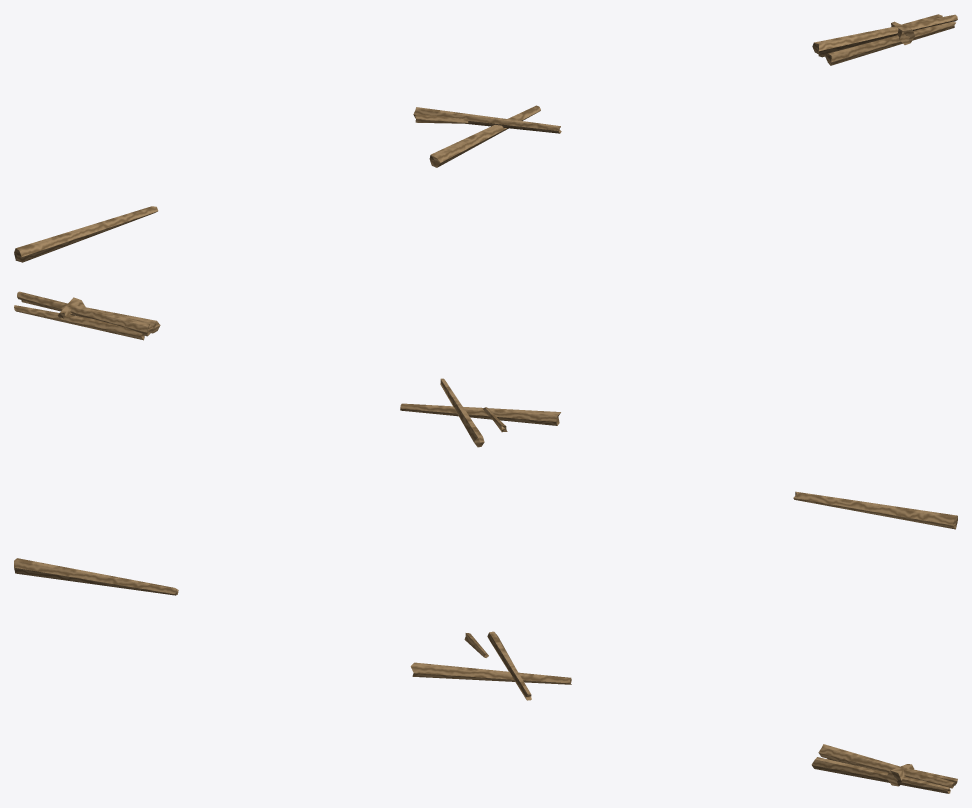
The model's file is stick.glb.
The picture shows the model from 3 angles, top to bottom: view 1: azimuth 30°, elevation 25°; view 2: azimuth 150°, elevation 25°; view 3: azimuth 330°, elevation 25°; orthographic projection.
Visible parts, largest first — view 1: stick_3, stick_2, stick_1; view 2: stick_3, stick_2, stick_1; view 3: stick_3, stick_2, stick_1.
Boxes of the visible parts, x1,y1,x2,y2 form: stick_3: [812, 14, 957, 65]; stick_2: [413, 105, 561, 167]; stick_1: [14, 206, 158, 262]; stick_3: [14, 291, 160, 340]; stick_2: [400, 378, 560, 447]; stick_1: [793, 491, 957, 529]; stick_3: [811, 744, 957, 793]; stick_2: [410, 631, 571, 700]; stick_1: [14, 558, 178, 595].
Size of the model in its own units: 18.89 by 0.3972 by 1.96.
3 materials, 3 textured.
